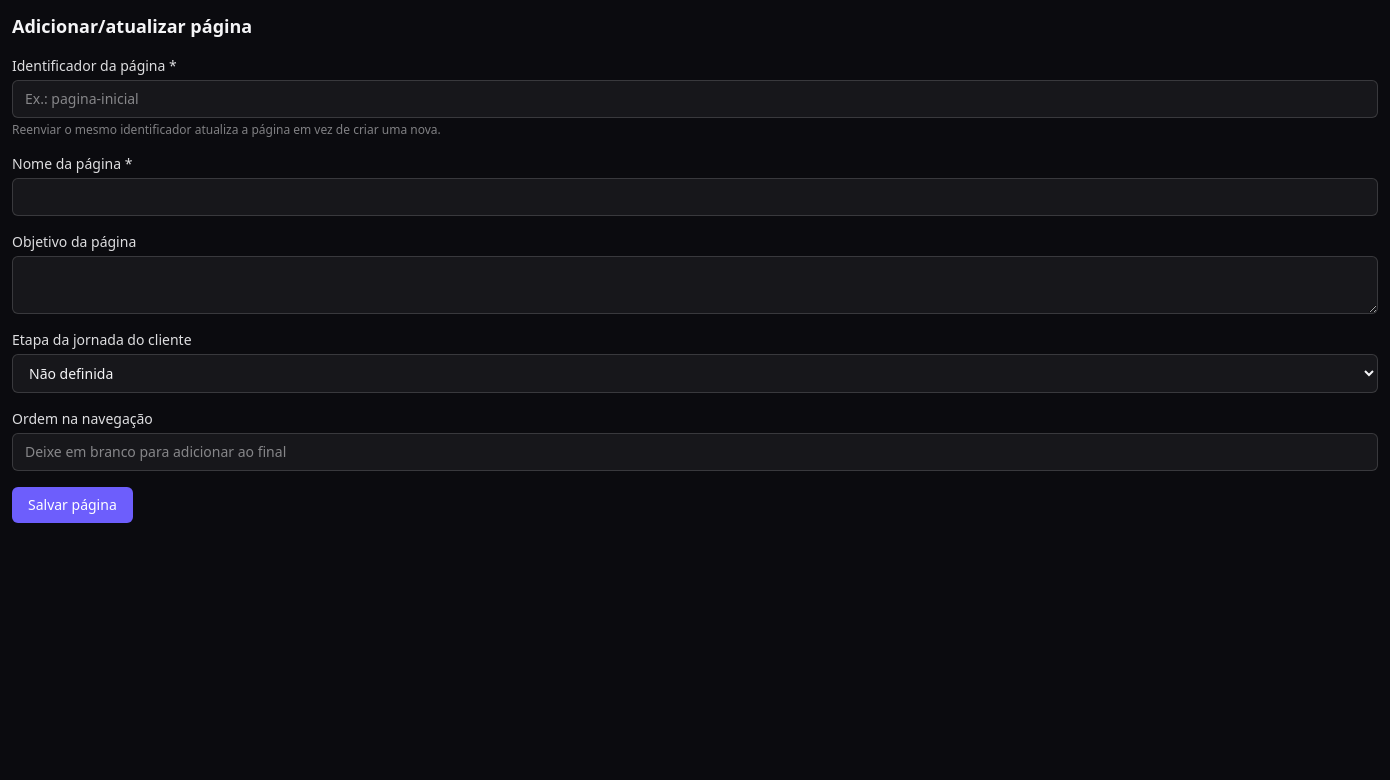
Test: SitePageForm › shows the ineligibility reason returned by the action
Click the button "Salvar página". click: [72, 505]
box: [12,487,133,523]
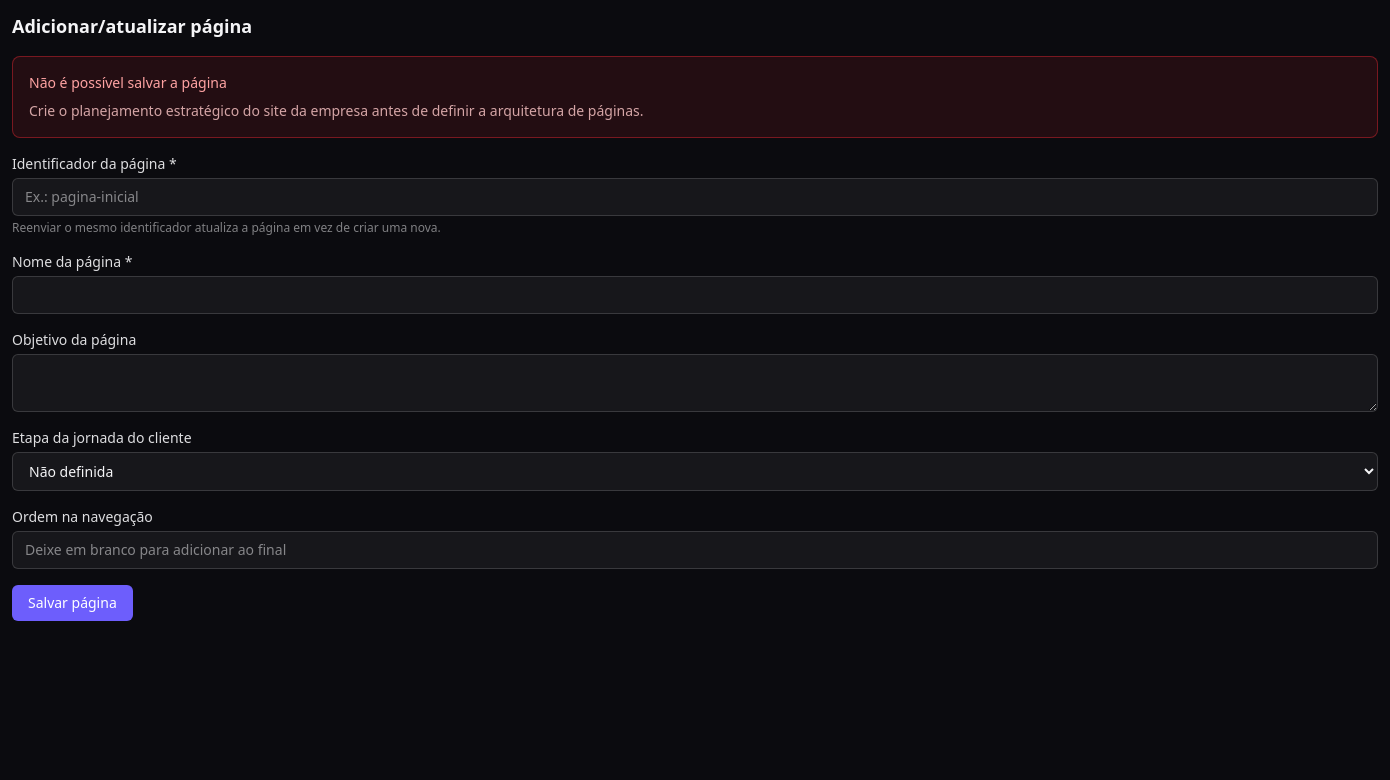
Expected: the text "Crie o planejamento estratégico do site da empresa antes de definir a arquitetura de páginas." is shown, [29,101,644,120]
